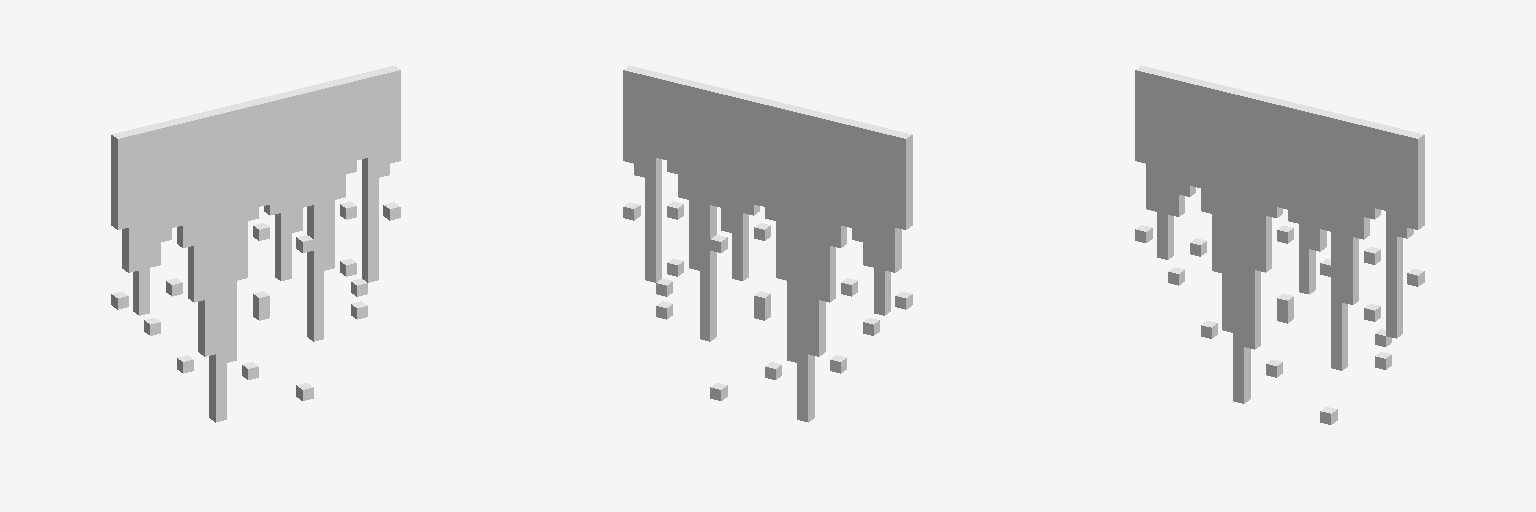
The model's file is sangre.obj.
3 views of the same model, side by side, from view 1: azimuth 30°, elevation 25°; view 2: azimuth 150°, elevation 25°; view 3: azimuth 330°, elevation 25° (orthographic).
Parts seen in each view (by area): view 1: object 1; view 2: object 1; view 3: object 1.
Part boxes in pixels (left/top/right/bottom): object 1: left=111, top=66, right=400, bottom=422; object 1: left=623, top=66, right=912, bottom=422; object 1: left=1135, top=66, right=1424, bottom=424.
Size of the model in its own units: 2.6 by 2.7 by 0.1.